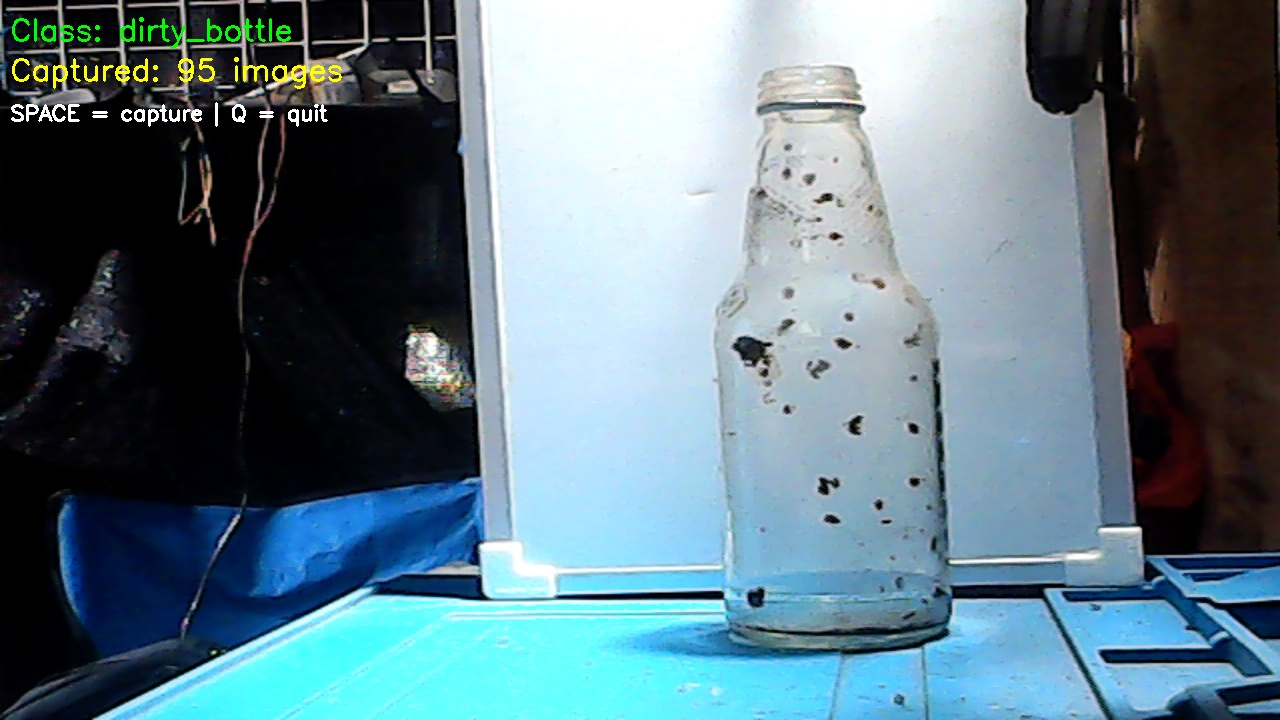dirty_bottle: (700, 70, 964, 657)
